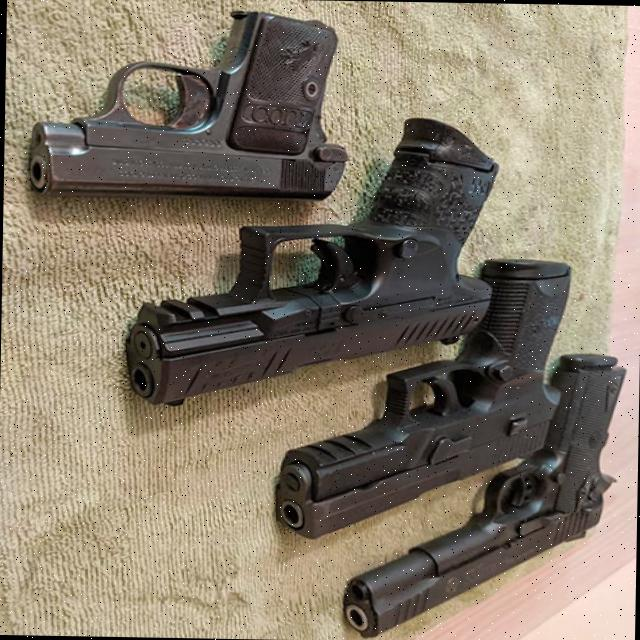Handgun: (121, 107, 502, 411), (281, 250, 581, 538), (341, 361, 621, 640), (25, 5, 350, 204)
